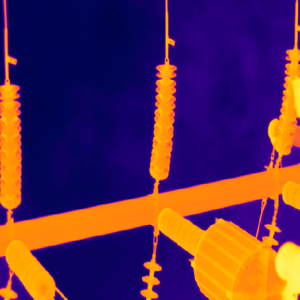insulator: (146, 60, 179, 181), (1, 237, 56, 300), (273, 48, 300, 156), (0, 82, 22, 209), (140, 256, 161, 300)
